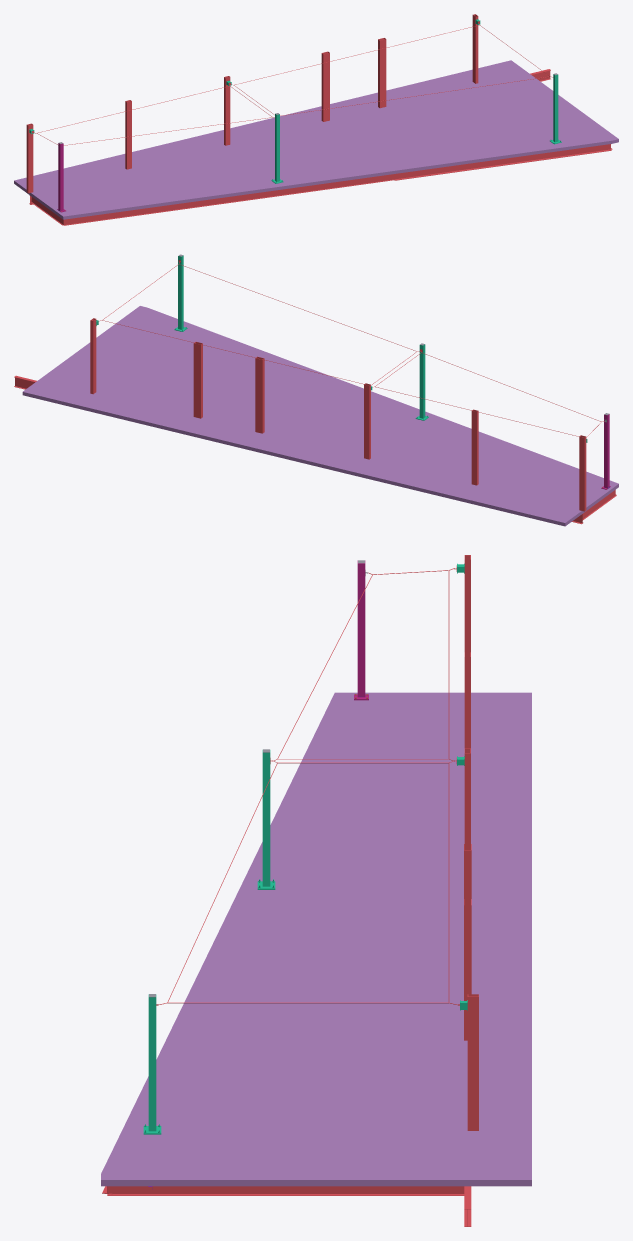
Rendered from Maryhill.glb.
The picture shows the model from 3 angles, top to bottom: view 1: azimuth 30°, elevation 25°; view 2: azimuth 150°, elevation 25°; view 3: azimuth 270°, elevation 25°; orthographic projection. The views are drawn at different scales.
Visible parts, largest first — view 1: empty_115, empty_111, empty_6, empty_7, empty_4, empty_5, empty_110, empty_3, empty_2; view 2: empty_115, empty_111, empty_6, empty_7, empty_4, empty_5, empty_2, empty_110, empty_3; view 3: empty_115, empty_111, empty_110, empty_3, empty_2, empty_7.
Part boxes in pixels (x1,y1,x2,y2): empty_115: (14, 60, 618, 219); empty_111: (29, 14, 612, 225); empty_6: (321, 51, 329, 121); empty_7: (378, 38, 386, 108); empty_4: (26, 123, 33, 193); empty_5: (224, 76, 230, 145); empty_110: (57, 143, 65, 212); empty_3: (553, 74, 558, 142); empty_2: (275, 114, 279, 181); empty_115: (22, 306, 618, 526); empty_111: (14, 264, 616, 524); empty_6: (255, 356, 264, 433); empty_7: (193, 341, 202, 418); empty_4: (579, 435, 586, 511); empty_5: (364, 383, 370, 459); empty_2: (419, 344, 425, 418); empty_110: (601, 414, 610, 489); empty_3: (178, 255, 183, 329); empty_115: (101, 692, 531, 1186); empty_111: (102, 568, 478, 1226); empty_110: (354, 560, 368, 700); empty_3: (148, 994, 156, 1131); empty_2: (262, 750, 270, 886); empty_7: (464, 899, 471, 1040).
Size of the model in its own units: 24.24 by 3.58 by 8.65.
